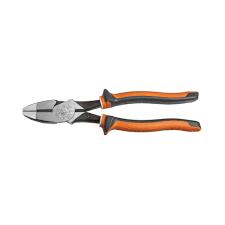pliers: (20, 86, 200, 134)
